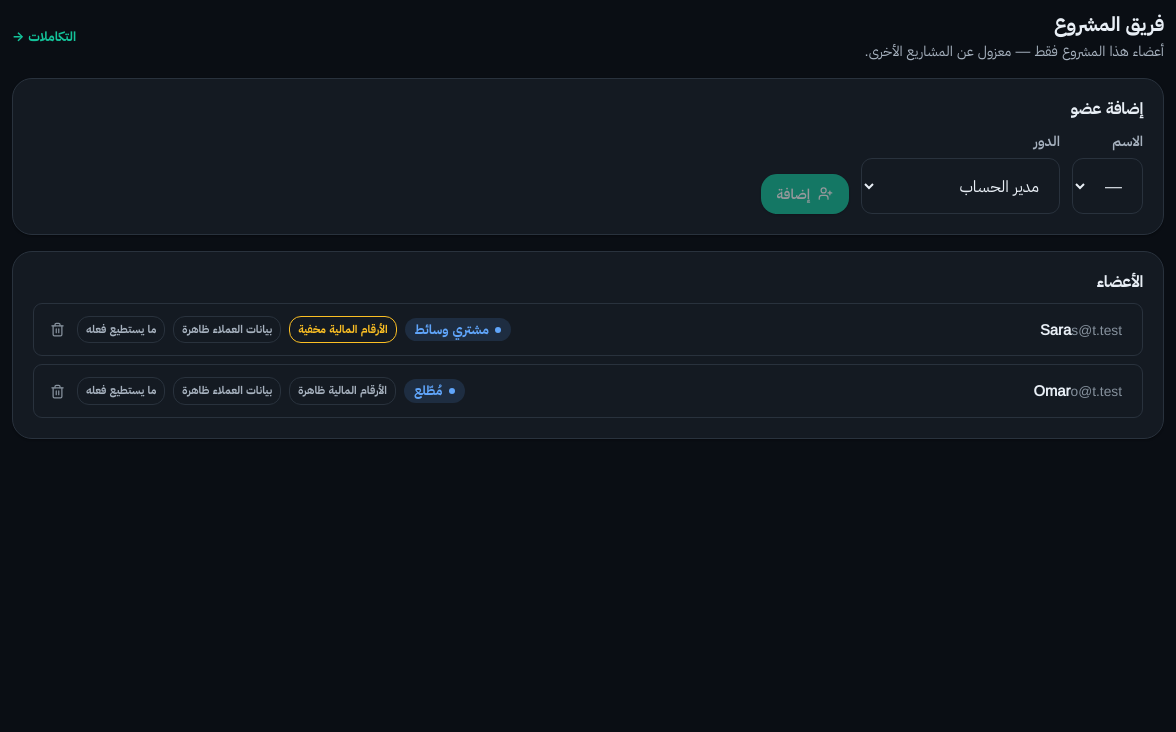
per-member money visibility › shows the effective-access preview the server resolves
Click the button with test id "member-effective-m1". click: (121, 330)
box: [77,316,165,343]
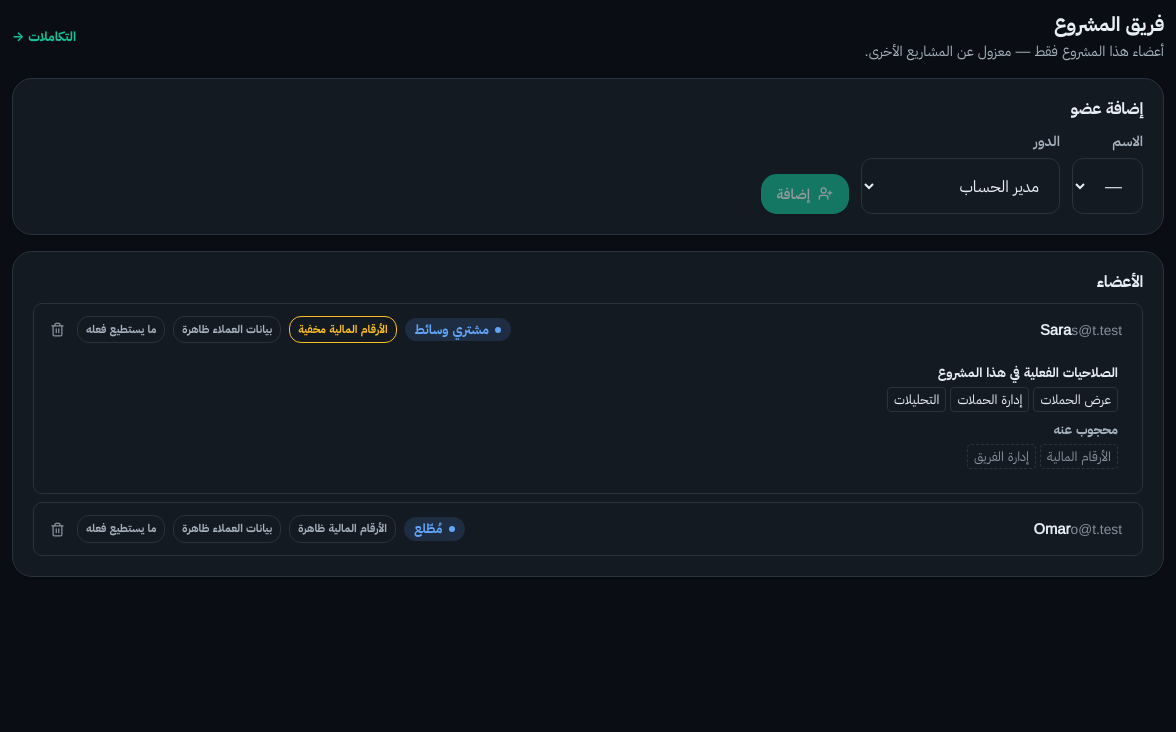
Result: the element with test id "member-effective-panel-m1" shows "إدارة الحملات" at [957,391,1022,407]
Result: the element with test id "member-effective-panel-m1" shows "محجوب عنه" at [1054,421,1118,437]
Result: the element with test id "member-effective-panel-m1" shows "الأرقام المالية" at [1047,448,1111,464]
